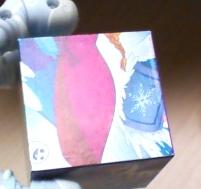Red1: (17, 31, 172, 169)
